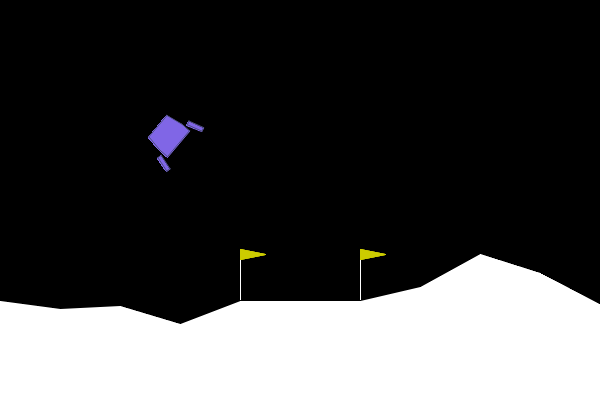lander: (136, 102, 206, 174)
